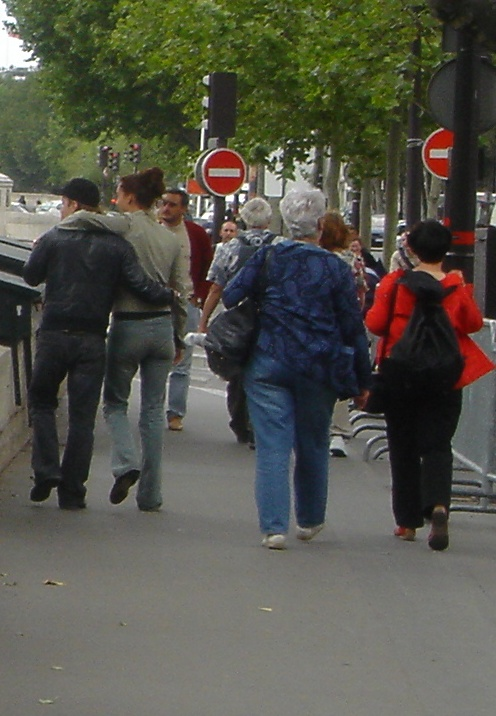person: (223, 186, 366, 554), (373, 221, 474, 550)
